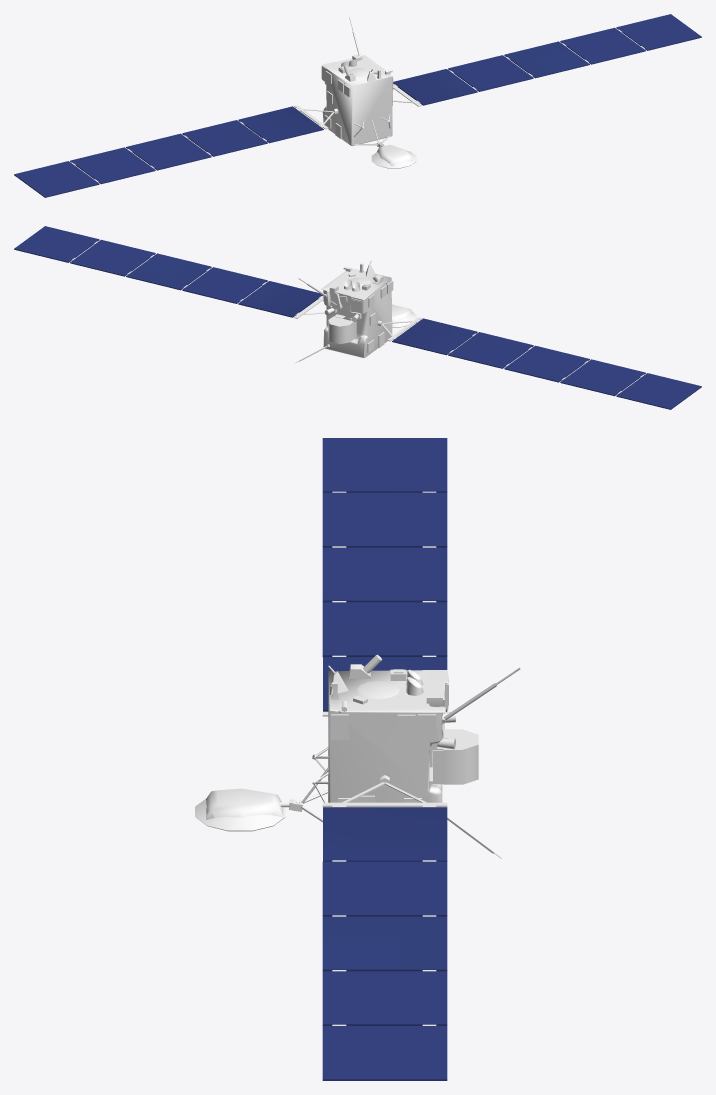
The model's file is space-satellites-satellite_v9.glb.
The picture shows the model from 3 angles, top to bottom: view 1: azimuth 30°, elevation 25°; view 2: azimuth 150°, elevation 25°; view 3: azimuth 270°, elevation 25°; orthographic projection. The views are drawn at different scales.
Parts seen in each view (by area): view 1: Satellite_v9; view 2: Satellite_v9; view 3: Satellite_v9.
Boxes of the visible parts, x1,y1,x2,y2 form: Satellite_v9: (14, 14, 701, 197); Satellite_v9: (14, 226, 701, 409); Satellite_v9: (195, 438, 520, 1080).
Bounding box in the file's own units: 8 × 1.06 × 1.72.
